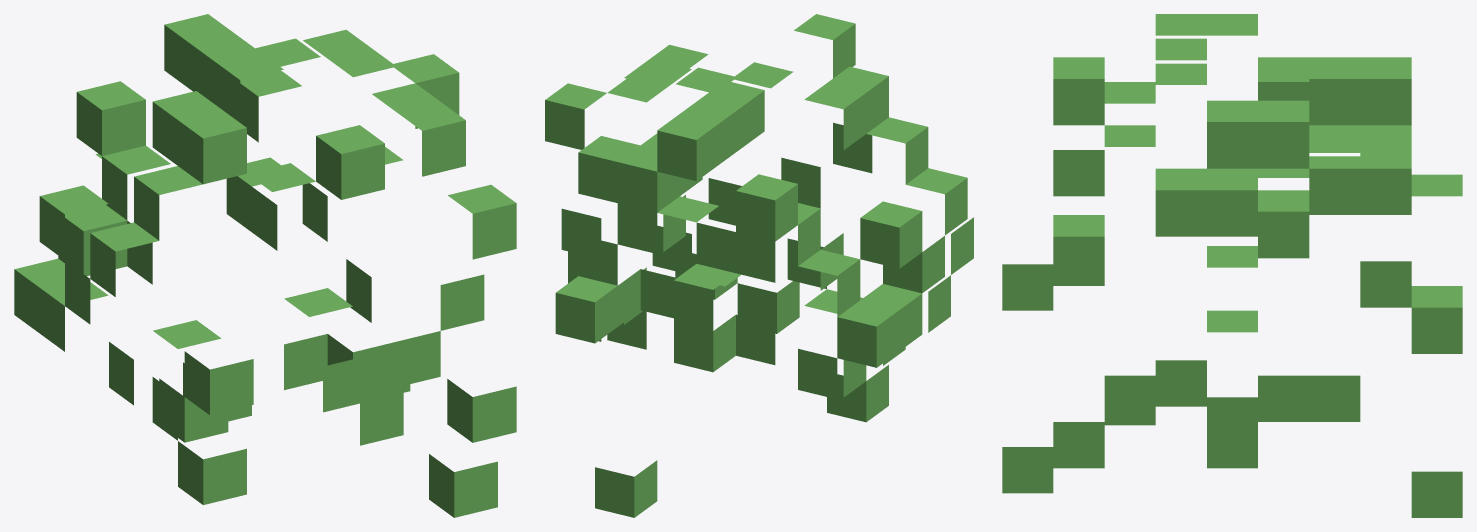
The model's file is tree-willow-1-6fb85e.gltf.
3 views of the same model, side by side, from view 1: azimuth 30°, elevation 25°; view 2: azimuth 150°, elevation 25°; view 3: azimuth 270°, elevation 25° (orthographic). The views are drawn at different scales.
Parts seen in each view (by area): view 1: tree-willow-1-6fb85e; view 2: tree-willow-1-6fb85e; view 3: tree-willow-1-6fb85e.
Boxes of the visible parts, bbox=[...] form: tree-willow-1-6fb85e: bbox=[14, 14, 516, 517]; tree-willow-1-6fb85e: bbox=[545, 14, 973, 517]; tree-willow-1-6fb85e: bbox=[1002, 14, 1462, 517].
Bounding box in the file's own units: 9 × 9 × 9.
